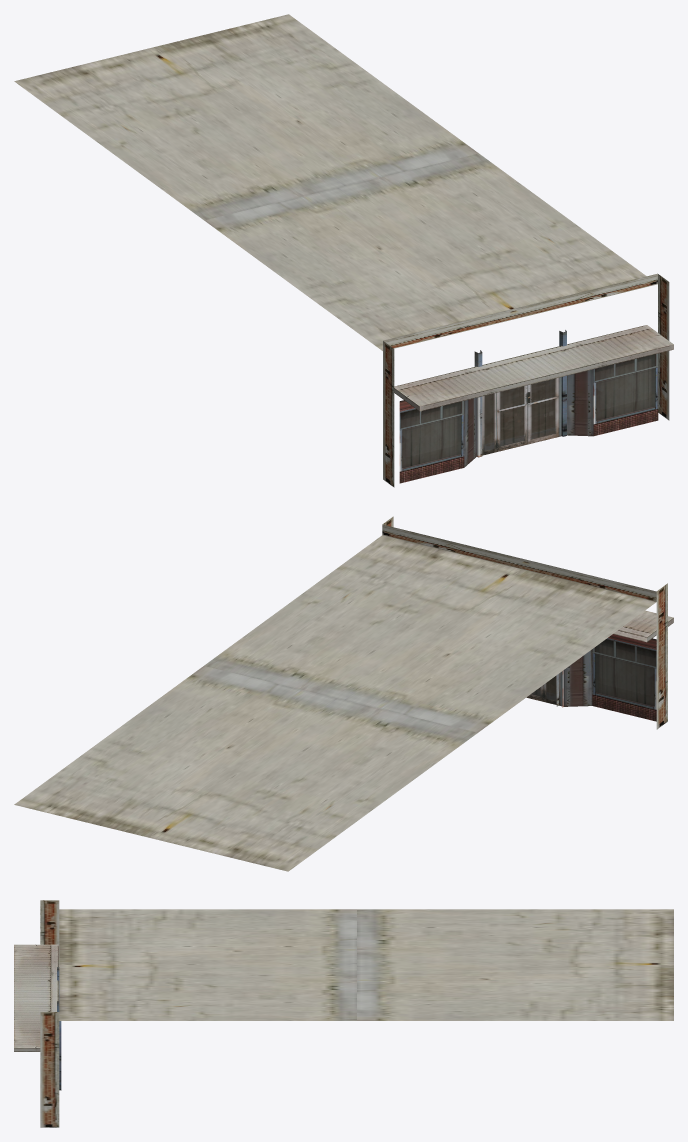
The model's file is rural_storesmall_7_rural_facade_flr_2_0.glb.
The picture shows the model from 3 angles, top to bottom: view 1: azimuth 30°, elevation 25°; view 2: azimuth 150°, elevation 25°; view 3: azimuth 270°, elevation 25°; orthographic projection. The views are drawn at different scales.
Visible parts, largest first — view 1: Rural_StoreSmall_7_Rural_Facade_FLR_2_0; view 2: Rural_StoreSmall_7_Rural_Facade_FLR_2_0; view 3: Rural_StoreSmall_7_Rural_Facade_FLR_2_0.
Part boxes in pixels (left/top/right/bottom): Rural_StoreSmall_7_Rural_Facade_FLR_2_0: left=14, top=14, right=673, bottom=487; Rural_StoreSmall_7_Rural_Facade_FLR_2_0: left=14, top=516, right=673, bottom=871; Rural_StoreSmall_7_Rural_Facade_FLR_2_0: left=14, top=900, right=673, bottom=1127.
Bounding box in the file's own units: 5.93 × 2.86 × 14.79.
1 material, 1 textured.
